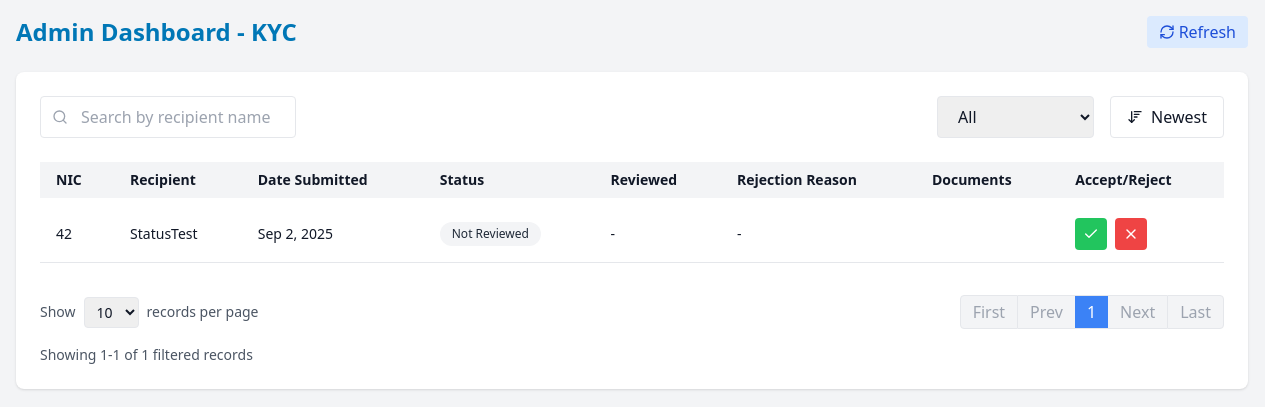
Test: KYCContent › updates status on Accept click
Check: the text "StatusTest" is shown, box [114, 206, 242, 263]
Click the button named "Approve KYC verification".
click(1091, 234)  # box [1075, 218, 1107, 250]
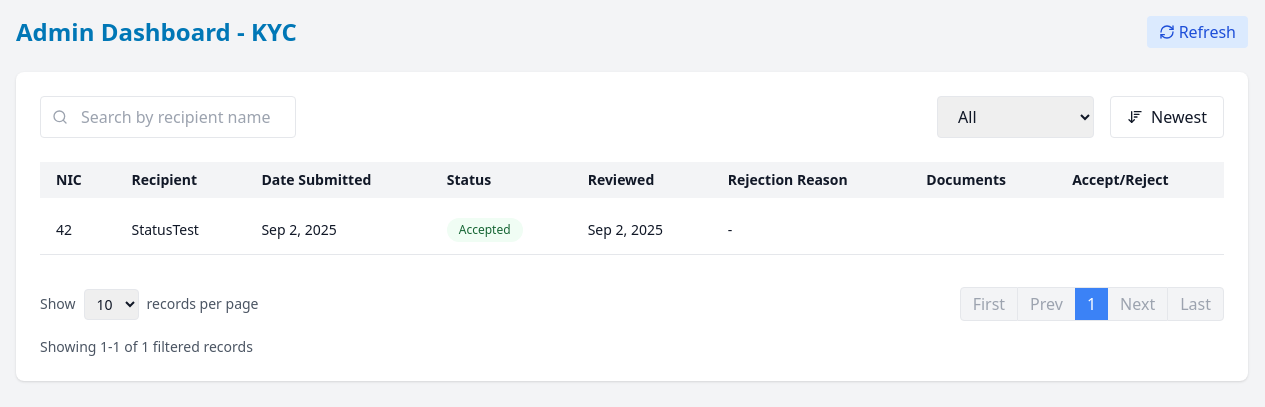
Check: the text "Accepted" is shown, box [447, 218, 523, 242]
